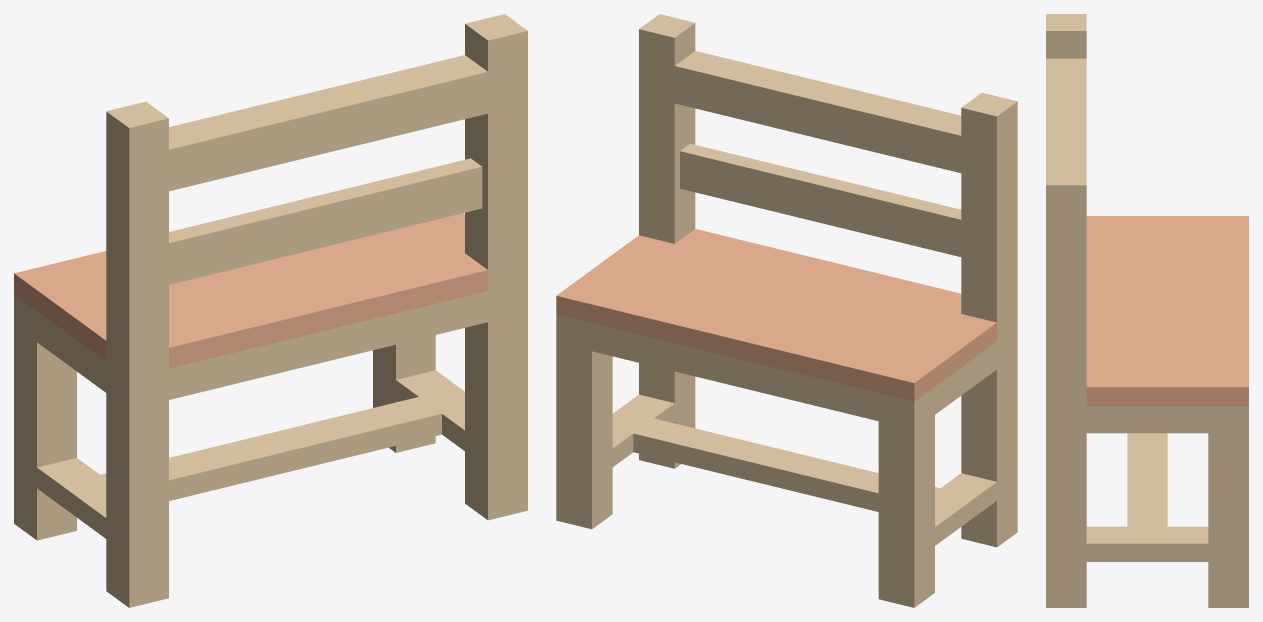
File: benchCushion.glb
The picture shows the model from 3 angles, left to right: view 1: azimuth 30°, elevation 25°; view 2: azimuth 150°, elevation 25°; view 3: azimuth 270°, elevation 25°; orthographic projection. The views are drawn at different scales.
Parts seen in each view (by area): view 1: benchCushion; view 2: benchCushion; view 3: benchCushion.
Boxes of the visible parts, bbox=[...] form: benchCushion: bbox=[14, 14, 527, 607]; benchCushion: bbox=[556, 14, 1017, 607]; benchCushion: bbox=[1046, 14, 1248, 607].
Bounding box in the file's own units: 4 × 4.6 × 2.
